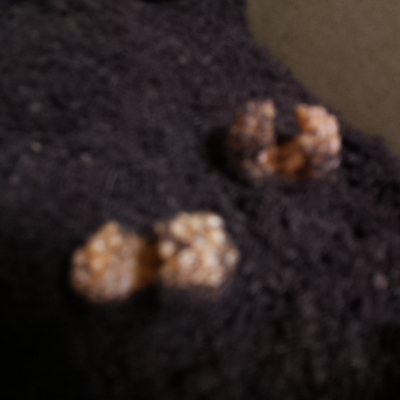eggs: (58, 204, 246, 307), (219, 91, 346, 194)
